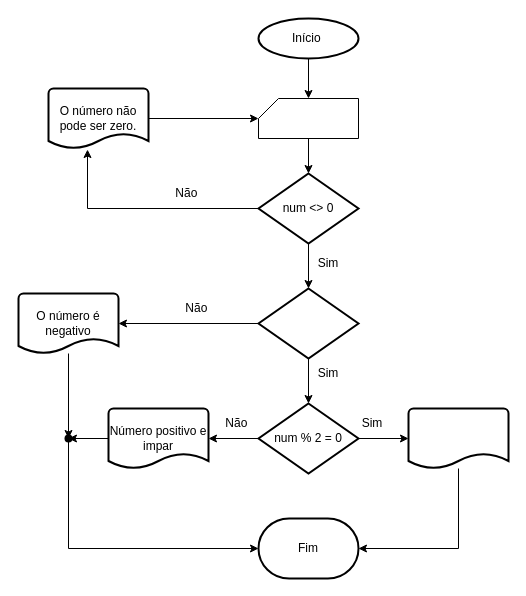
This 526x596 diagram has some shape labels left out. Each missing label, with the centre of its shape:
"num" goes at [308,118].
"num > 0" goes at [308,323].
"Número positivo e par" goes at [458,438].
